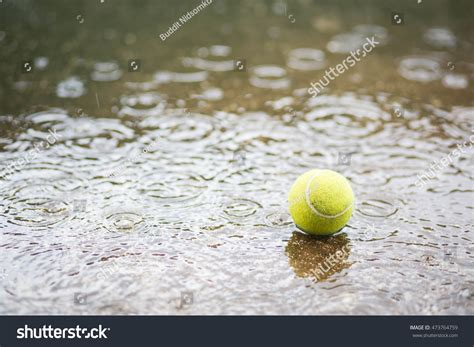tennis_ball: (288, 169, 354, 236)
